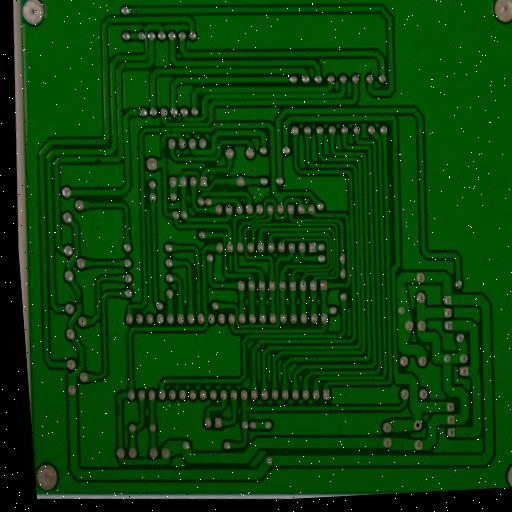mouse_bite: (191, 265, 202, 288), (114, 400, 125, 421), (73, 291, 84, 308), (160, 142, 169, 161), (90, 154, 105, 165)
